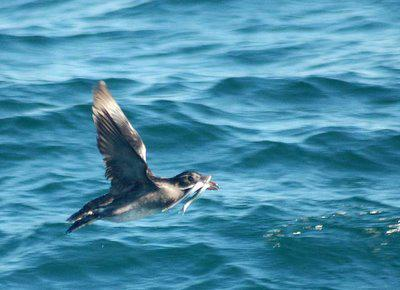008.Rhinoceros_Auklet: (65, 81, 218, 239)
